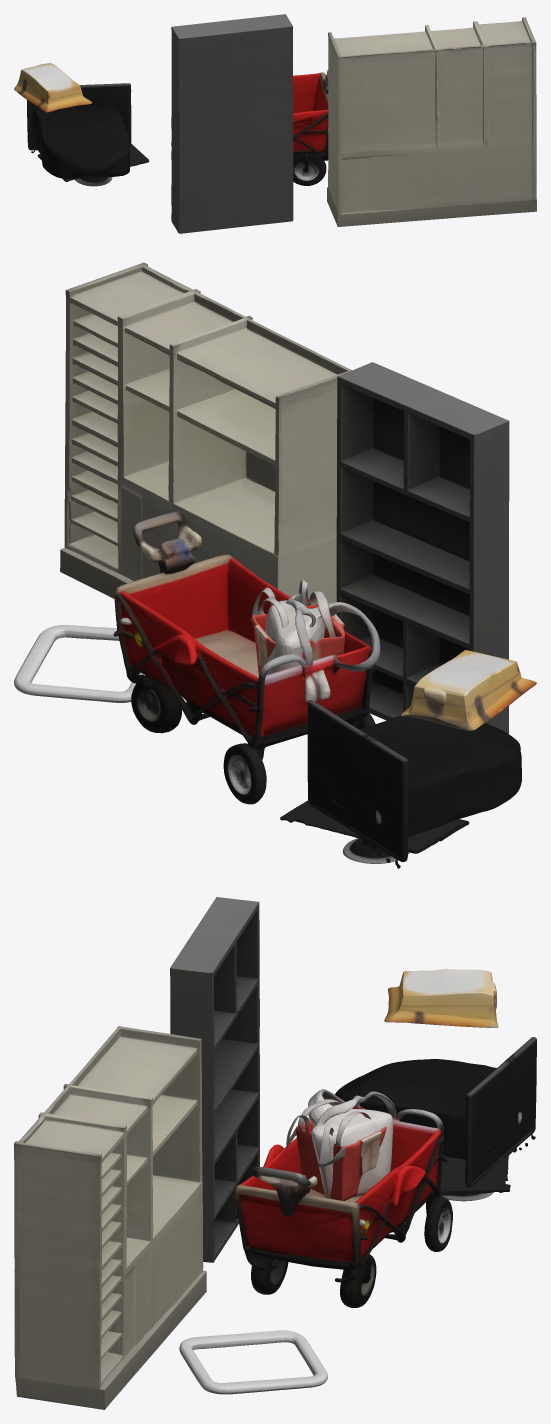
The model's file is ours.glb.
The picture shows the model from 3 angles, top to bottom: view 1: azimuth 30°, elevation 25°; view 2: azimuth 150°, elevation 25°; view 3: azimuth 270°, elevation 25°; orthographic projection. The views are drawn at different scales.
Visible parts, largest first — view 1: geometry_1, geometry_3, geometry_0, geometry_2, geometry_7, geometry_6; view 2: geometry_1, geometry_3, geometry_2, geometry_0, geometry_7, geometry_4, geometry_5, geometry_6; view 3: geometry_1, geometry_2, geometry_3, geometry_0, geometry_7, geometry_5, geometry_4, geometry_6.
Boxes of the visible parts, x1=… form: geometry_1: x1=327, y1=17, x2=536, y2=226; geometry_3: x1=171, y1=14, x2=293, y2=233; geometry_0: x1=27, y1=83, x2=131, y2=179; geometry_2: x1=171, y1=70, x2=328, y2=185; geometry_7: x1=14, y1=63, x2=92, y2=112; geometry_6: x1=37, y1=144, x2=149, y2=186; geometry_1: x1=60, y1=262, x2=351, y2=614; geometry_3: x1=336, y1=362, x2=509, y2=733; geometry_2: x1=113, y1=511, x2=380, y2=804; geometry_0: x1=307, y1=700, x2=521, y2=868; geometry_7: x1=401, y1=650, x2=536, y2=731; geometry_4: x1=14, y1=625, x2=144, y2=702; geometry_5: x1=251, y1=580, x2=344, y2=676; geometry_6: x1=280, y1=800, x2=469, y2=863; geometry_1: x1=14, y1=1026, x2=206, y2=1409; geometry_2: x1=234, y1=1089, x2=452, y2=1307; geometry_3: x1=170, y1=897, x2=259, y2=1262; geometry_0: x1=335, y1=1037, x2=536, y2=1187; geometry_7: x1=384, y1=969, x2=498, y2=1027; geometry_5: x1=286, y1=1099, x2=386, y2=1200; geometry_4: x1=179, y1=1330, x2=327, y2=1394; geometry_6: x1=440, y1=1155, x2=510, y2=1201.
Size of the model in its own units: 1.81 by 0.9035 by 1.44.
Materials: 8 (8 with a texture image).
